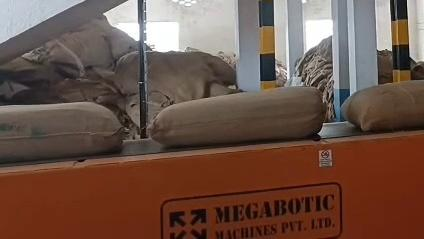box: (148, 87, 323, 146), (0, 104, 122, 162), (343, 81, 424, 131)
